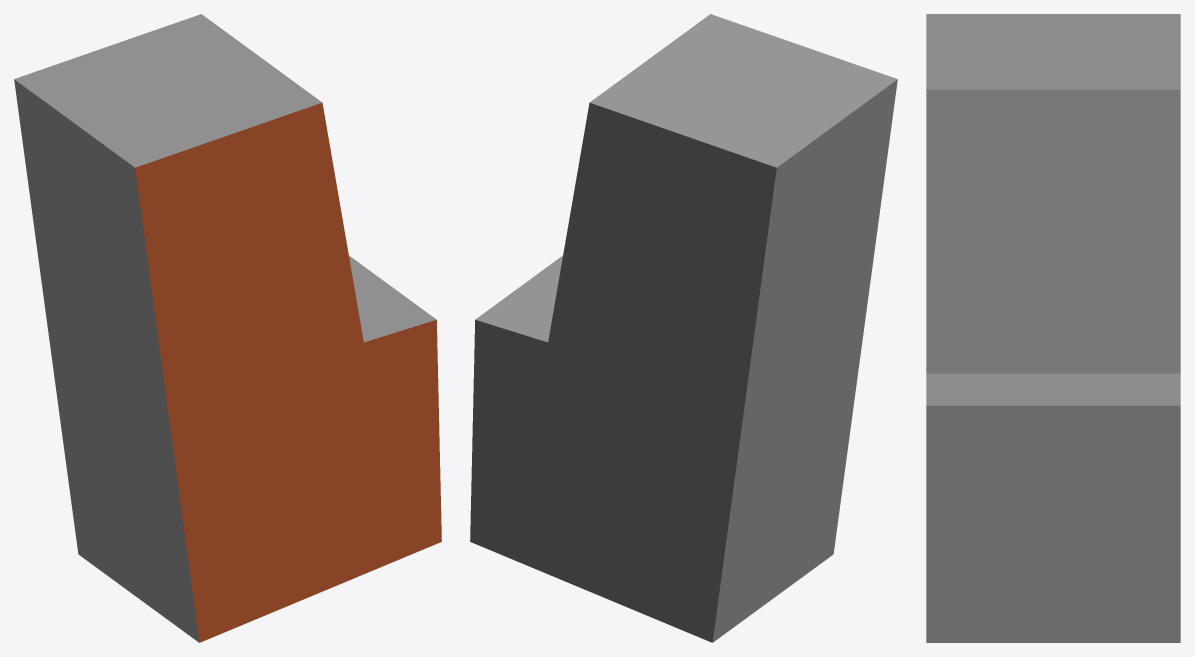
Rendered from construction_3798_assumed_A_Casa_h6m.obj.
3 renders of one model, left to right at view 1: azimuth 30°, elevation 25°; view 2: azimuth 150°, elevation 25°; view 3: azimuth 270°, elevation 25°, orthographic. The views are drawn at different scales.
Parts seen in each view (by area): view 1: construction_3798_assumed_A_Casa; view 2: construction_3798_assumed_A_Casa; view 3: construction_3798_assumed_A_Casa.
Part boxes in pixels (left/top/right/bottom): construction_3798_assumed_A_Casa: left=14, top=14, right=441, bottom=642; construction_3798_assumed_A_Casa: left=470, top=14, right=897, bottom=642; construction_3798_assumed_A_Casa: left=926, top=14, right=1180, bottom=642.
Size of the model in its own units: 8.78 by 13.95 by 6.
